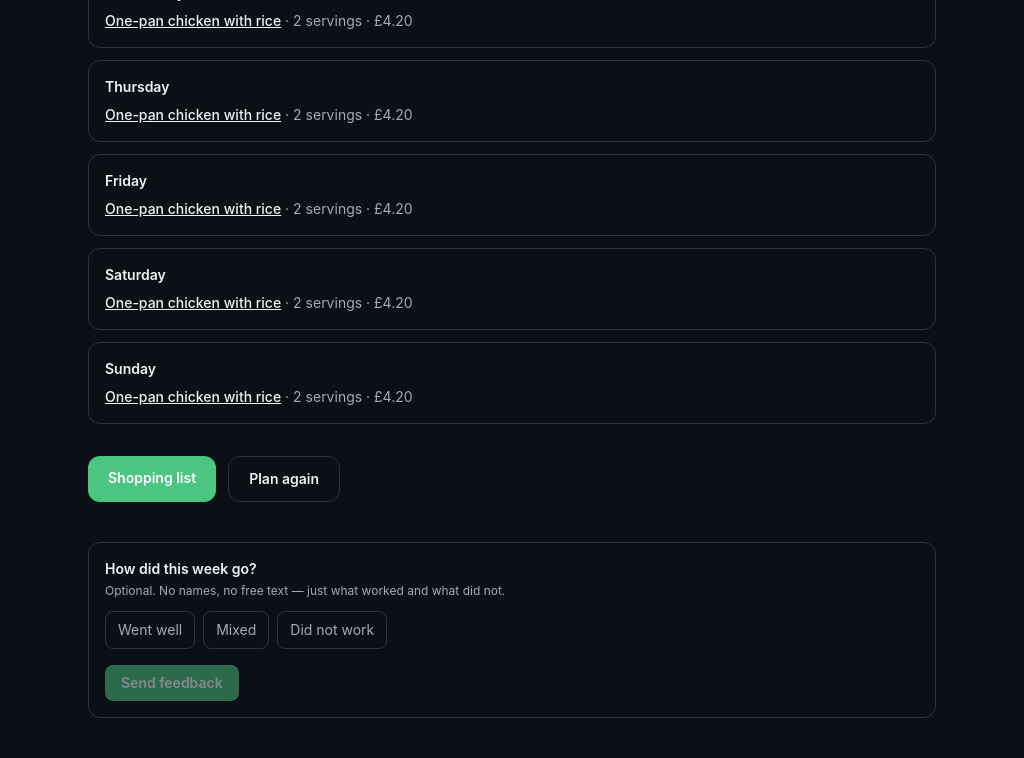
Scenario: end-of-week feedback › offers issue tags only when something went wrong
(page scrolled)
Click the radio button labelled "Went well": [150, 630] box [105, 611, 195, 649]
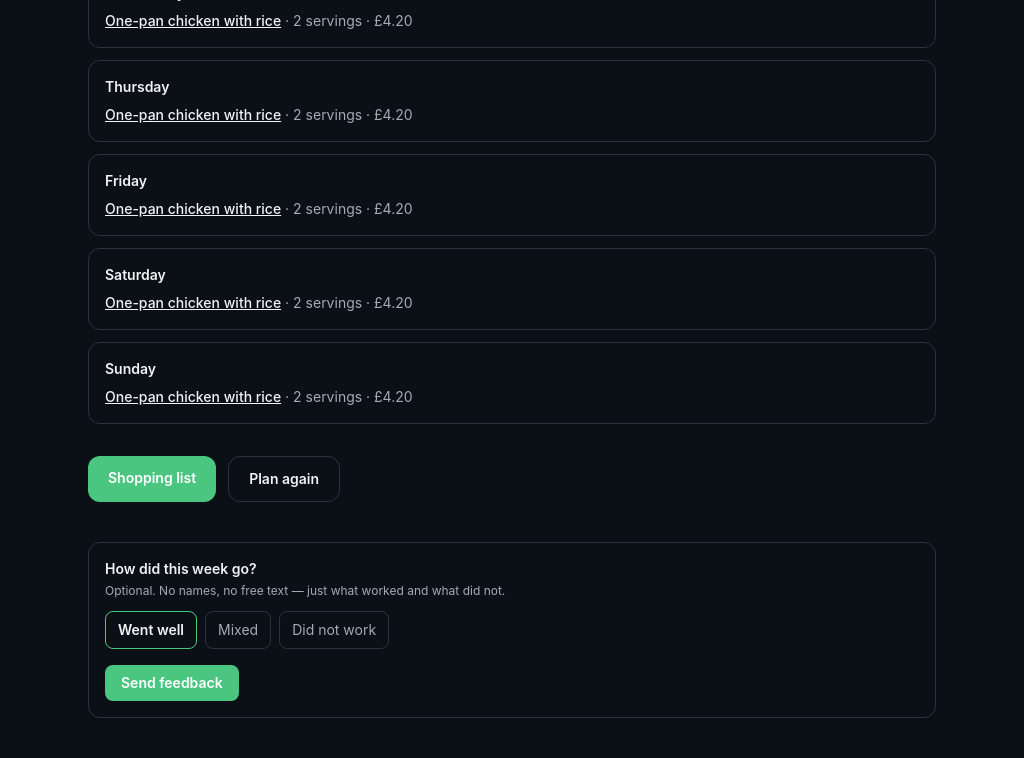
Click the radio button labelled "Did not work": [334, 630] box [279, 611, 389, 649]
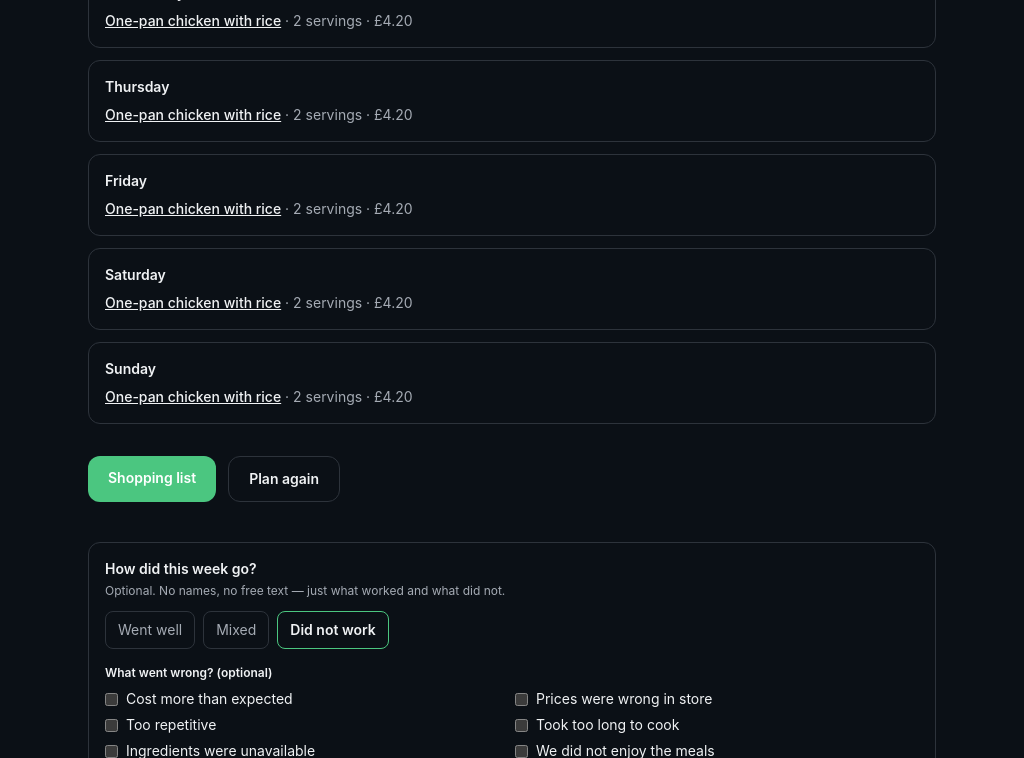
Expected: the checkbox labelled "Cost more than expected" is shown, [105, 692, 118, 706]
